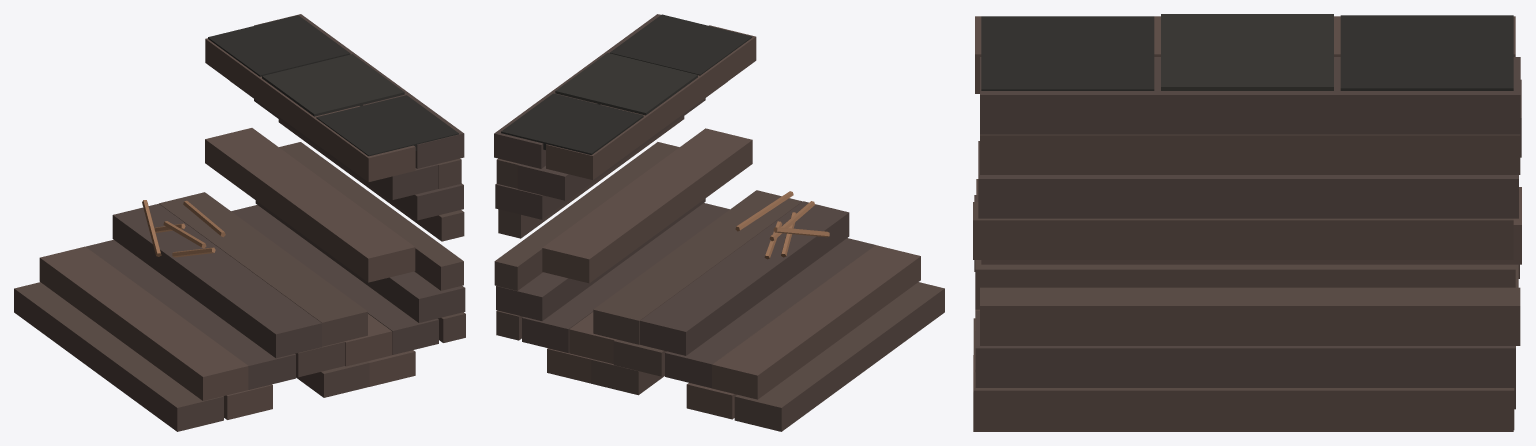
File: wall_brick_dmg_c.glb
3 renders of one model, left to right at view 1: azimuth 30°, elevation 25°; view 2: azimuth 150°, elevation 25°; view 3: azimuth 270°, elevation 25°, orthographic. The views are drawn at different scales.
Parts seen in each view (by area): view 1: WallBrickDamaged; view 2: WallBrickDamaged; view 3: WallBrickDamaged.
Part boxes in pixels (bbox=[...]): WallBrickDamaged: bbox=[14, 14, 465, 431]; WallBrickDamaged: bbox=[494, 14, 944, 431]; WallBrickDamaged: bbox=[973, 14, 1521, 431].
Size of the model in its own units: 3.92 by 3.04 by 3.92.
